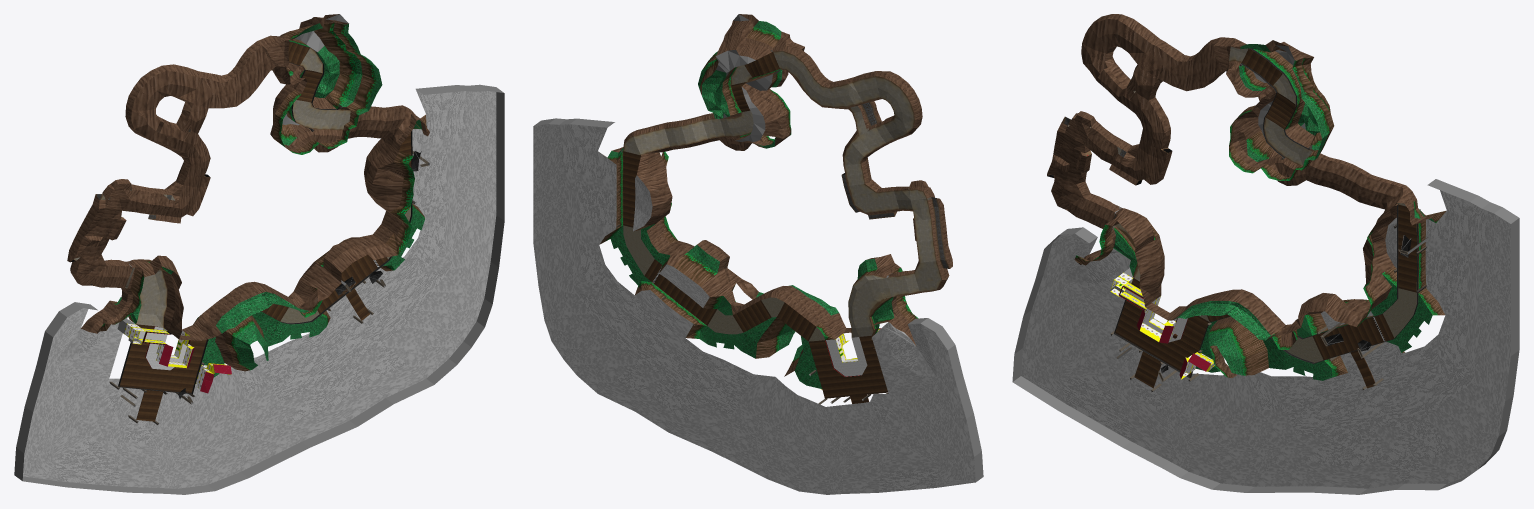
Rendered from TRACK.GDB.obj.
The picture shows the model from 3 angles, left to right: view 1: azimuth 30°, elevation 25°; view 2: azimuth 150°, elevation 25°; view 3: azimuth 330°, elevation 25°; orthographic projection. The views are drawn at different scales.
Size of the model in its own units: 1997 by 1877 by 293.
Materials: 25 (24 with a texture image).
